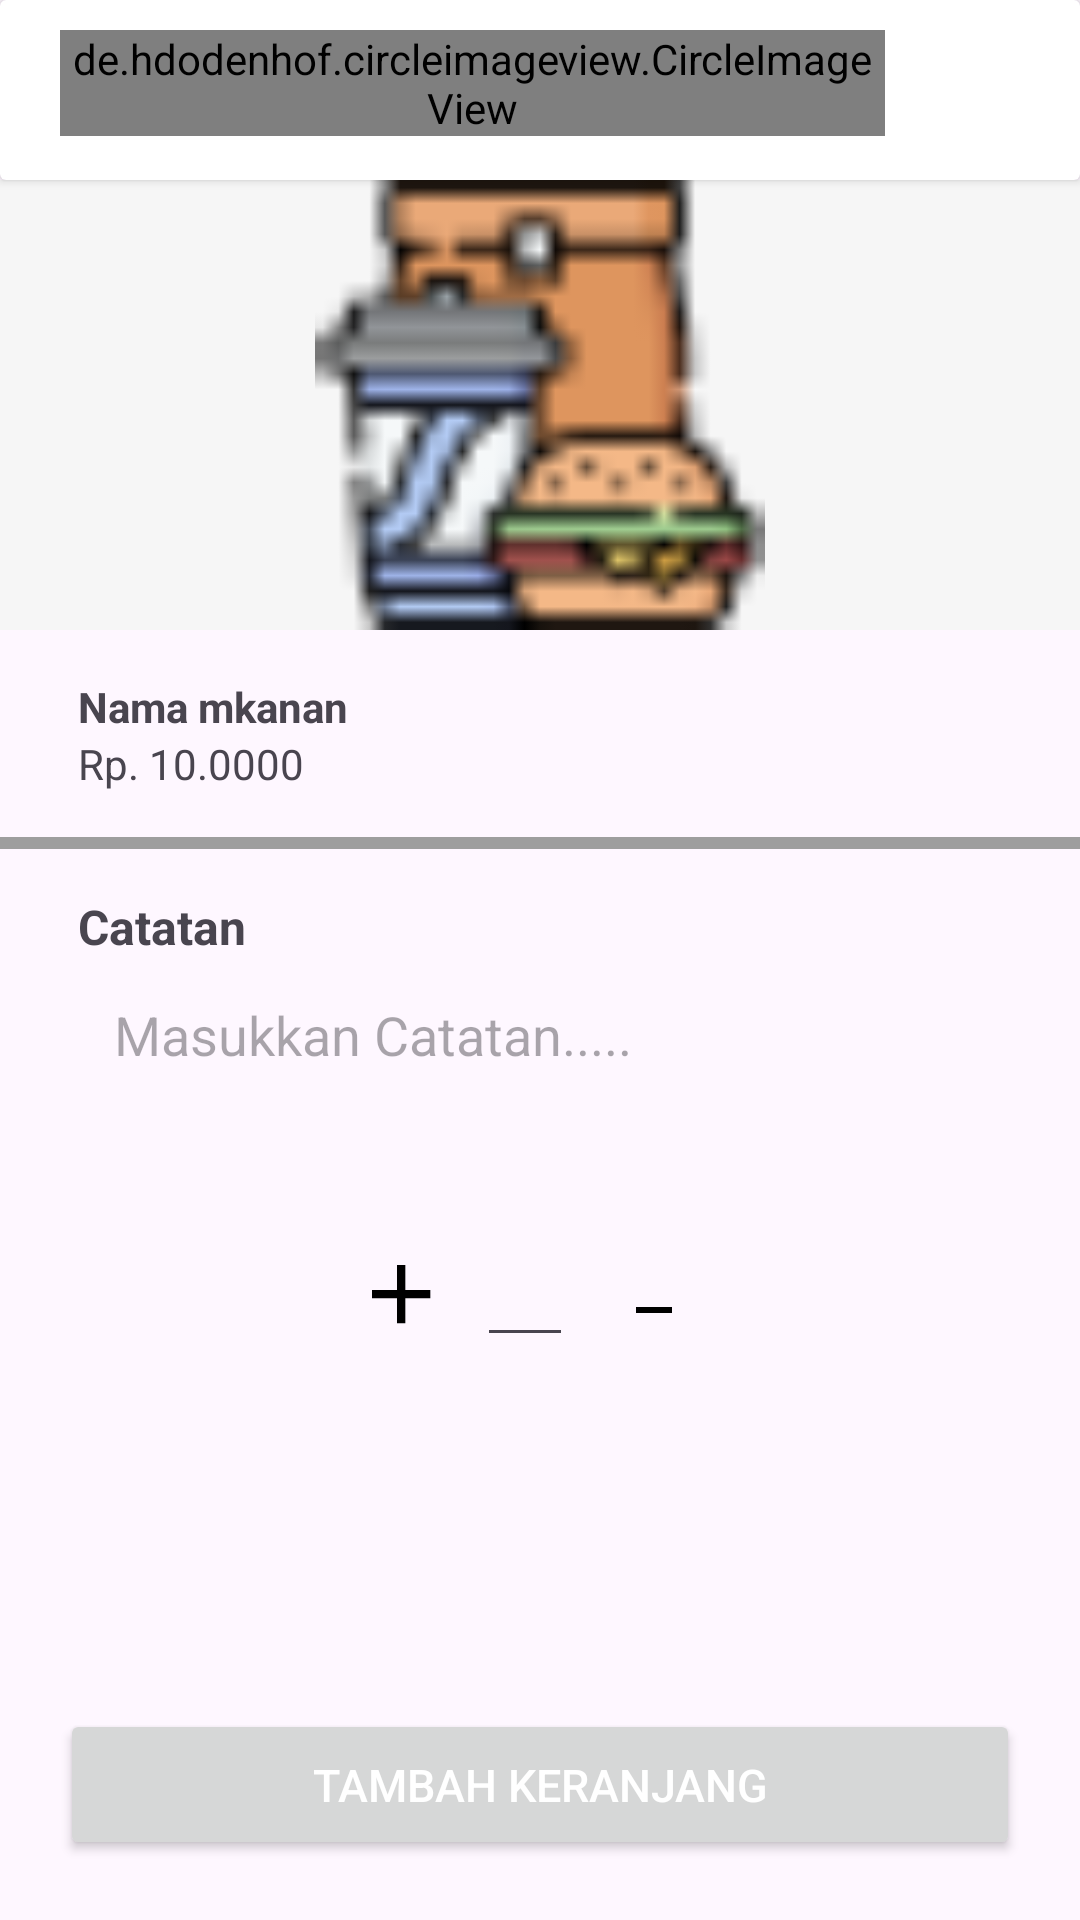

Screen size 1080x1920. Icon name, then its center in pixels as [x,y]:
plus: [401,1294]
